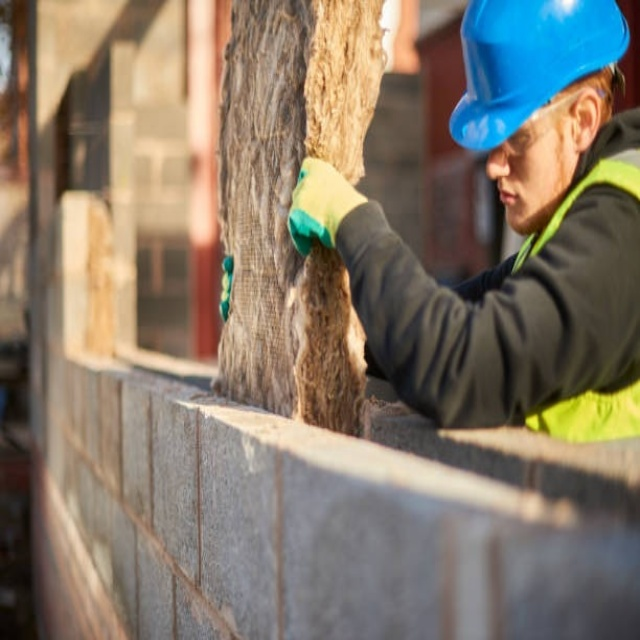Gafas: (501, 87, 600, 155)
Guantes: (288, 155, 370, 255), (220, 255, 234, 321)
Sin_mascara: (495, 169, 545, 234)
